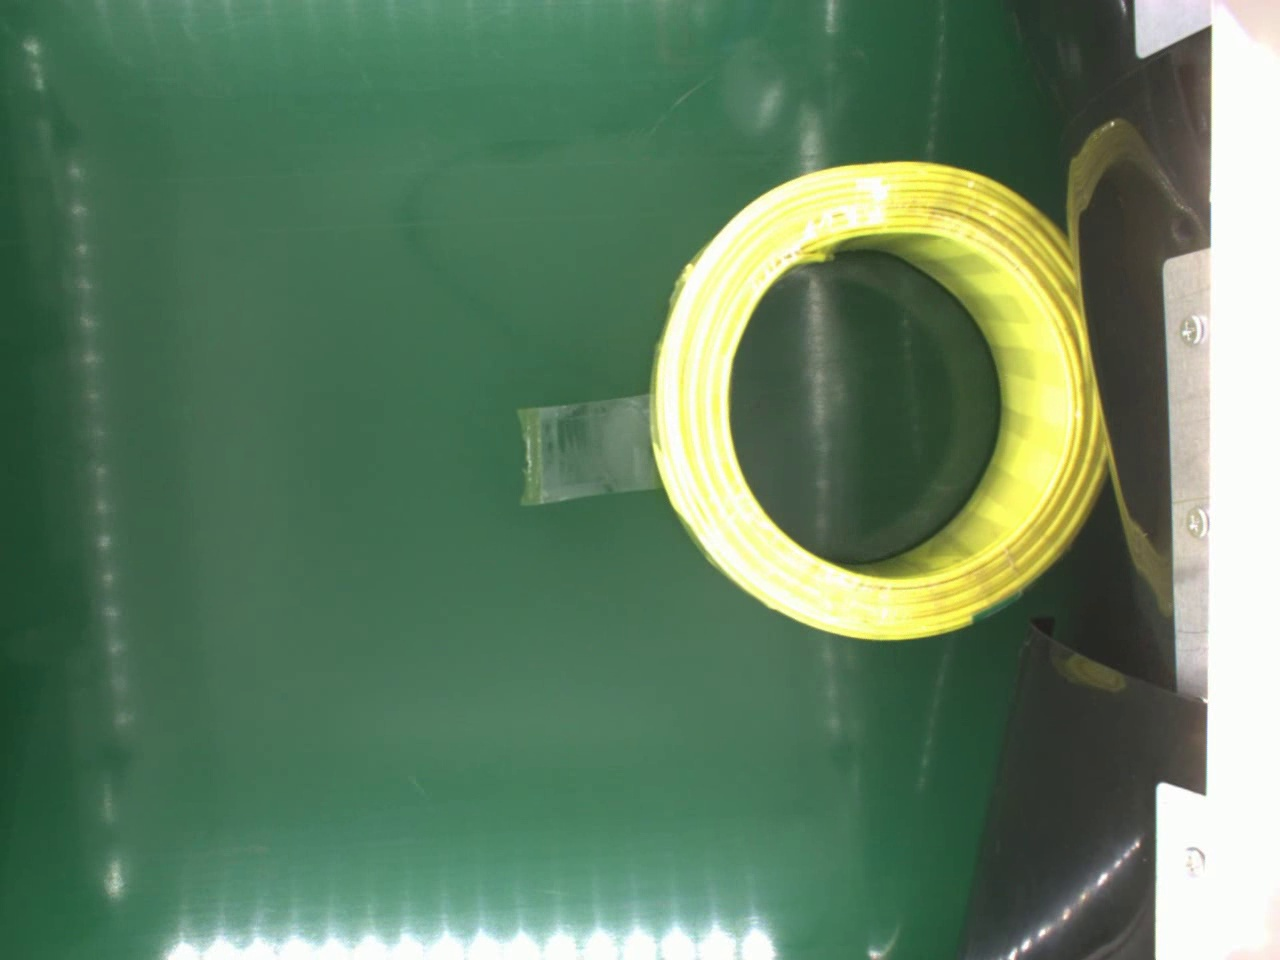yellow: (642, 153, 1103, 638)
